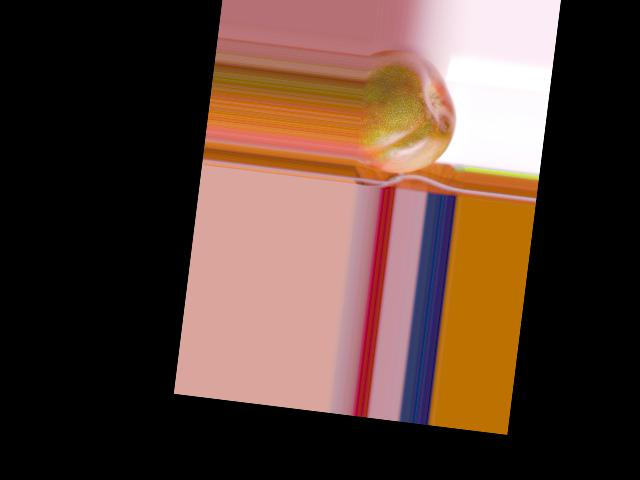tomato: (354, 47, 463, 180)
